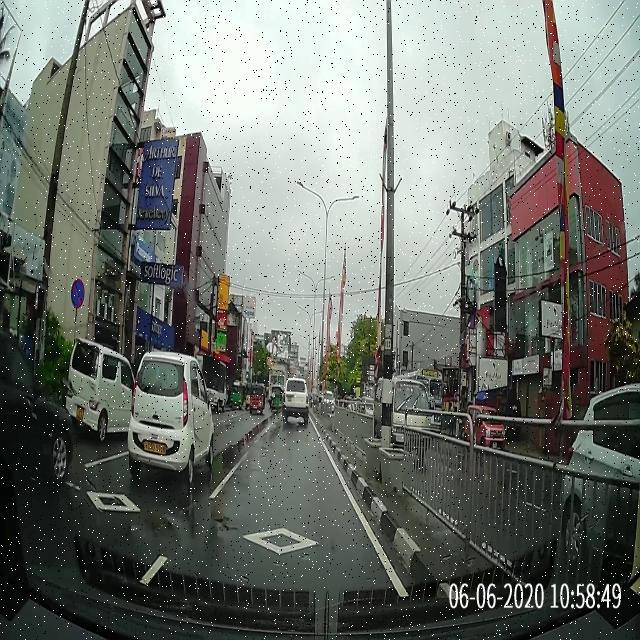diamond: (166, 521, 393, 569)
